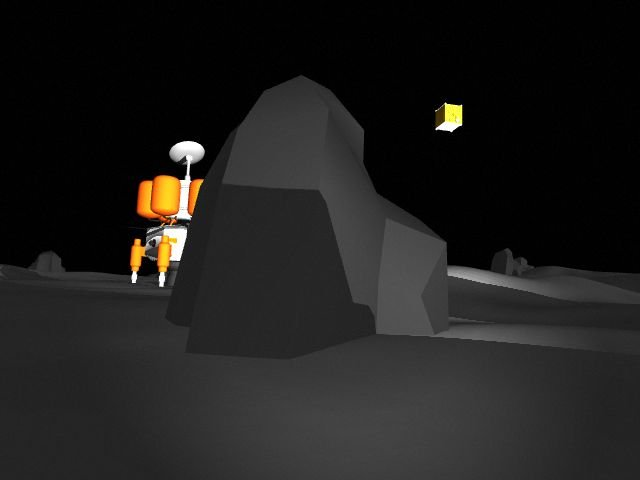homebase: (124, 137, 251, 289)
